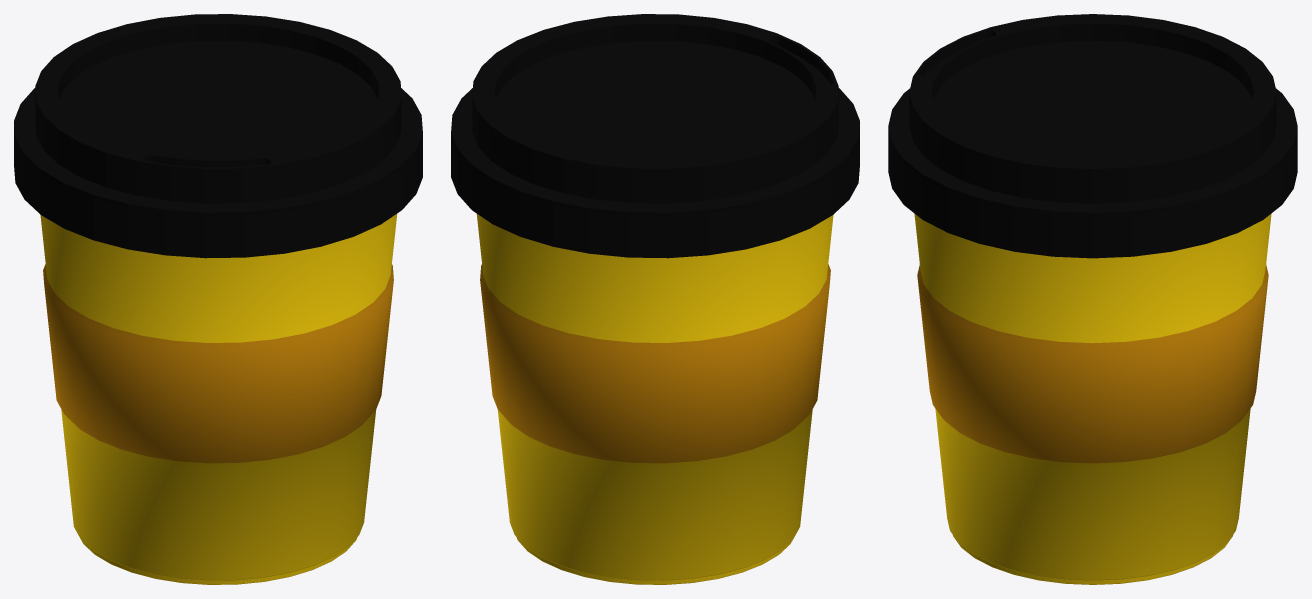
Rendered from Copo2.fbx.
The picture shows the model from 3 angles, left to right: view 1: azimuth 30°, elevation 25°; view 2: azimuth 150°, elevation 25°; view 3: azimuth 270°, elevation 25°; orthographic projection.
Parts seen in each view (by area): view 1: Copo2; view 2: Copo2; view 3: Copo2.
Part boxes in pixels (<box>): Copo2: <box>14,14,422,584</box>; Copo2: <box>451,14,859,584</box>; Copo2: <box>888,14,1297,584</box>.
Size of the model in its own units: 281 by 328 by 281.
Materials: 1 (1 with a texture image).
